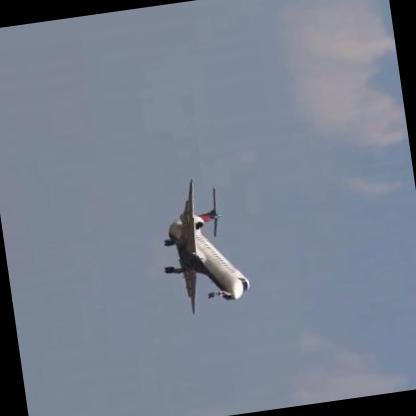plane: (152, 174, 250, 317)
